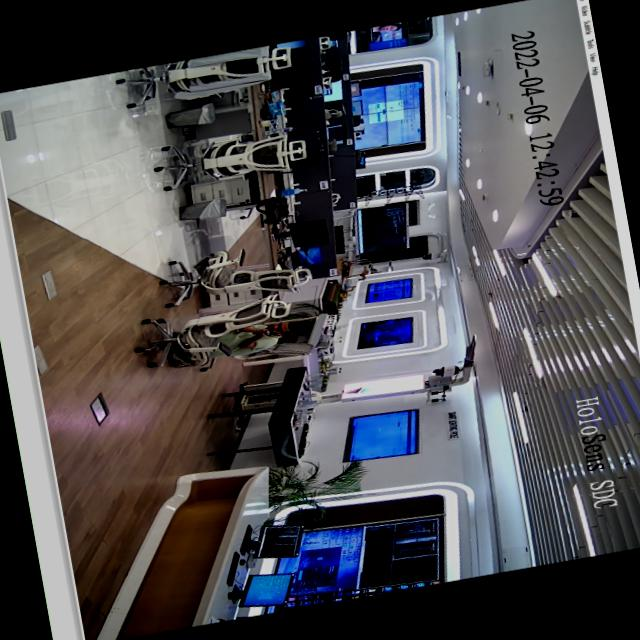long weapon: (243, 322, 285, 344)
